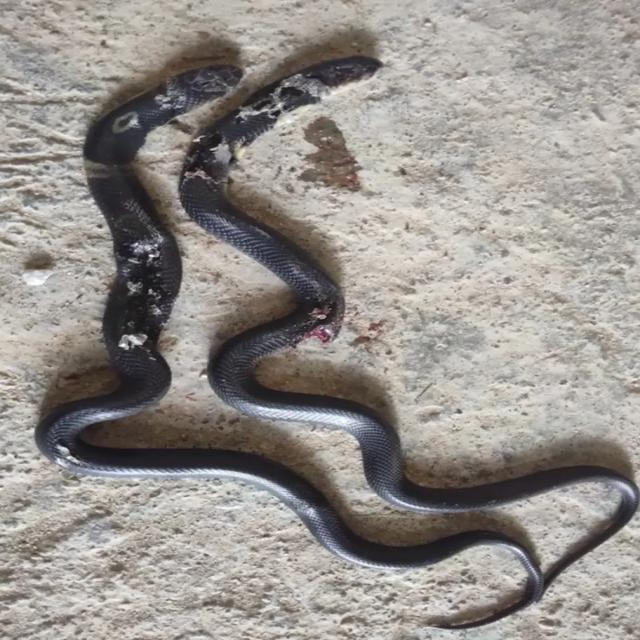Venomous: (100, 41, 242, 119), (275, 47, 402, 133)
